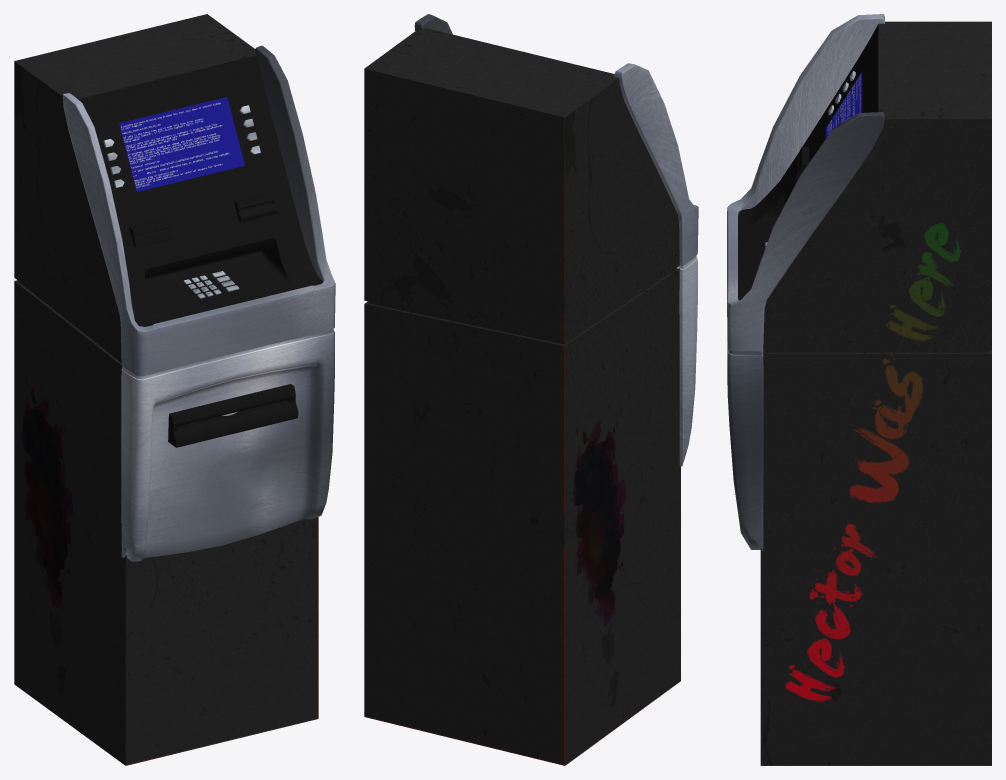
Rendered from atm.glb.
The picture shows the model from 3 angles, left to right: view 1: azimuth 30°, elevation 25°; view 2: azimuth 150°, elevation 25°; view 3: azimuth 270°, elevation 25°; orthographic projection. The views are drawn at different scales.
Visible parts, largest first — view 1: pCube1, pCube2, pCube106, pCube83, pCube81, pCube82, pCube85, pCube20; view 2: pCube1, pCube2; view 3: pCube1, pCube2, pCube106.
Boxes of the visible parts, x1=… form: pCube1: x1=14, y1=14, x2=318, y2=765; pCube2: x1=62, y1=45, x2=335, y2=561; pCube106: x1=78, y1=55, x2=322, y2=326; pCube83: x1=168, y1=384, x2=298, y2=447; pCube81: x1=234, y1=192, x2=277, y2=222; pCube82: x1=129, y1=218, x2=172, y2=247; pCube85: x1=183, y1=271, x2=239, y2=298; pCube20: x1=103, y1=105, x2=260, y2=187; pCube1: x1=364, y1=28, x2=680, y2=765; pCube2: x1=414, y1=14, x2=698, y2=466; pCube1: x1=760, y1=21, x2=991, y2=765; pCube2: x1=727, y1=14, x2=884, y2=551; pCube106: x1=738, y1=24, x2=878, y2=300.
Bounding box in the file's own units: 5.01 × 14.98 × 5.51.
6 materials, 6 textured.
